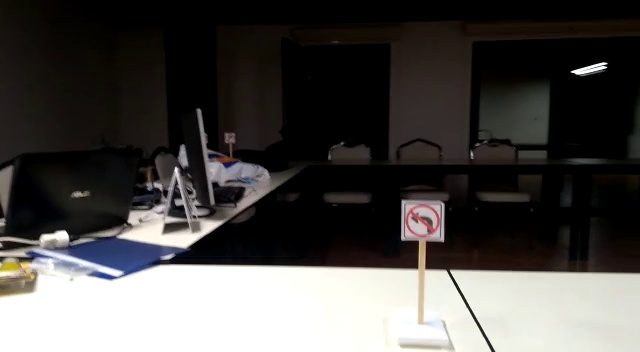sola_donulmez: (405, 202, 440, 235)
